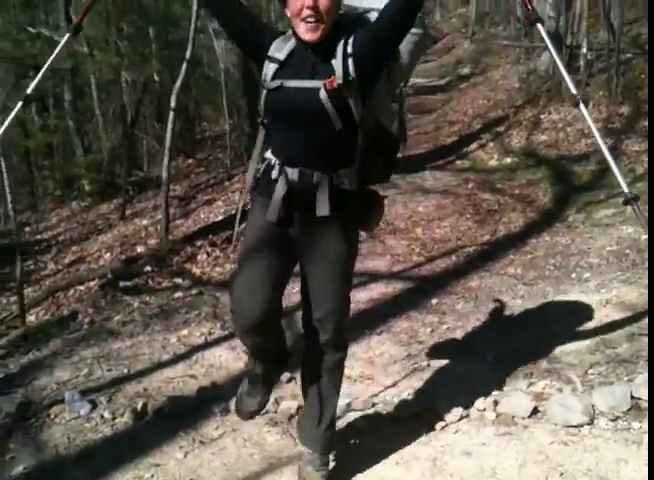person: (198, 1, 424, 479)
